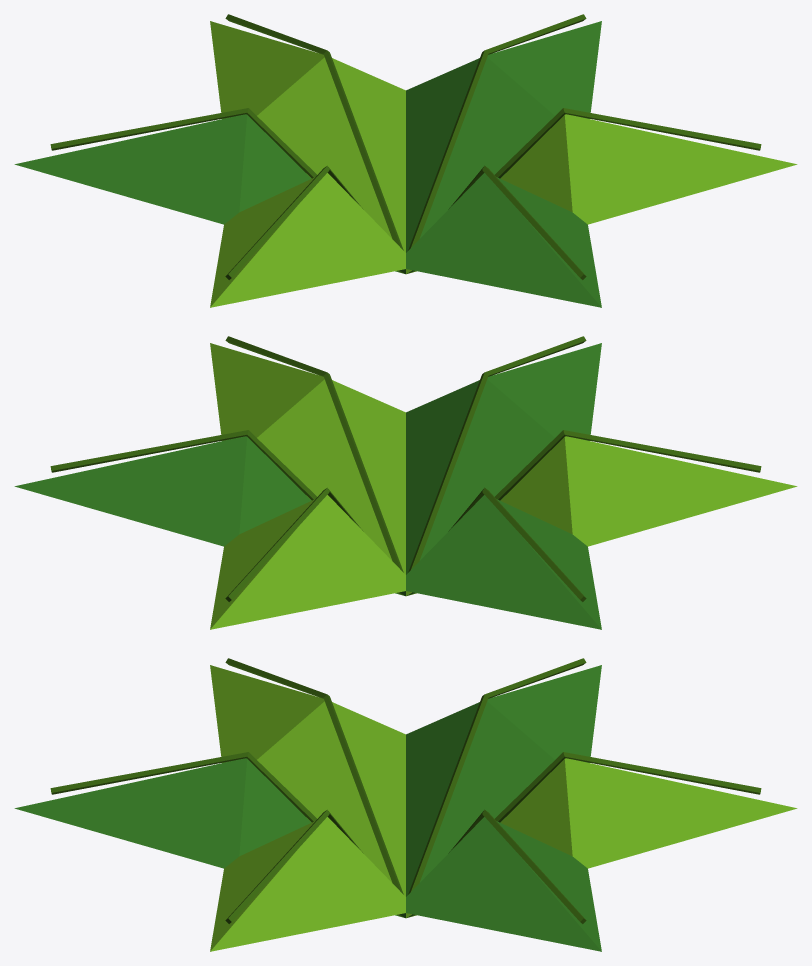
File: forest_leaf_clump.glb
3 renders of one model, top to bottom at view 1: azimuth 30°, elevation 25°; view 2: azimuth 150°, elevation 25°; view 3: azimuth 270°, elevation 25°, orthographic.
Parts seen in each view (by area): view 1: Broad woodland leaf, Broad woodland leaf.005, Broad woodland leaf.004, Broad woodland leaf.001, Broad woodland leaf.002, Broad woodland leaf.003, Leaf central vein, Leaf central vein.001, Leaf central vein.002, Leaf central vein.005, Leaf central vein.003, Leaf central vein.004; view 2: Broad woodland leaf.003, Broad woodland leaf.004, Broad woodland leaf.002, Broad woodland leaf.005, Broad woodland leaf, Broad woodland leaf.001, Leaf central vein.002, Leaf central vein.003, Leaf central vein.001, Leaf central vein.004, Leaf central vein, Leaf central vein.005; view 3: Broad woodland leaf.001, Broad woodland leaf.002, Broad woodland leaf, Broad woodland leaf.003, Broad woodland leaf.004, Broad woodland leaf.005, Leaf central vein.004, Leaf central vein.005, Leaf central vein, Leaf central vein.003, Leaf central vein.001, Leaf central vein.002.
Boxes of the visible parts, left/top/right/bottom form: Broad woodland leaf: left=210, top=21, right=405, bottom=252; Broad woodland leaf.005: left=406, top=21, right=601, bottom=252; Broad woodland leaf.004: left=407, top=114, right=797, bottom=273; Broad woodland leaf.001: left=14, top=114, right=404, bottom=273; Broad woodland leaf.002: left=210, top=173, right=411, bottom=307; Broad woodland leaf.003: left=400, top=173, right=601, bottom=307; Leaf central vein: left=225, top=14, right=403, bottom=250; Leaf central vein.001: left=408, top=14, right=586, bottom=250; Leaf central vein.002: left=495, top=108, right=761, bottom=178; Leaf central vein.005: left=50, top=108, right=316, bottom=178; Leaf central vein.003: left=448, top=165, right=586, bottom=279; Leaf central vein.004: left=225, top=165, right=363, bottom=279; Broad woodland leaf.003: left=406, top=343, right=601, bottom=574; Broad woodland leaf.004: left=210, top=343, right=405, bottom=574; Broad woodland leaf.002: left=407, top=436, right=797, bottom=595; Broad woodland leaf.005: left=14, top=436, right=404, bottom=595; Broad woodland leaf: left=210, top=495, right=411, bottom=629; Broad woodland leaf.001: left=400, top=495, right=601, bottom=629; Leaf central vein.002: left=225, top=336, right=403, bottom=572; Leaf central vein.003: left=408, top=336, right=586, bottom=572; Leaf central vein.001: left=50, top=430, right=316, bottom=500; Leaf central vein.004: left=495, top=430, right=761, bottom=500; Leaf central vein: left=225, top=487, right=363, bottom=601; Leaf central vein.005: left=448, top=487, right=586, bottom=601; Broad woodland leaf.001: left=406, top=665, right=601, bottom=896; Broad woodland leaf.002: left=210, top=665, right=405, bottom=896; Broad woodland leaf: left=407, top=758, right=797, bottom=917; Broad woodland leaf.003: left=14, top=758, right=404, bottom=917; Broad woodland leaf.004: left=210, top=817, right=411, bottom=951; Broad woodland leaf.005: left=400, top=817, right=601, bottom=951; Leaf central vein.004: left=225, top=658, right=403, bottom=894; Leaf central vein.005: left=408, top=658, right=586, bottom=894; Leaf central vein: left=495, top=752, right=761, bottom=822; Leaf central vein.003: left=50, top=752, right=316, bottom=822; Leaf central vein.001: left=448, top=809, right=586, bottom=923; Leaf central vein.002: left=225, top=809, right=363, bottom=923.
Size of the model in its own units: 0.7275 by 0.1968 by 0.84.
